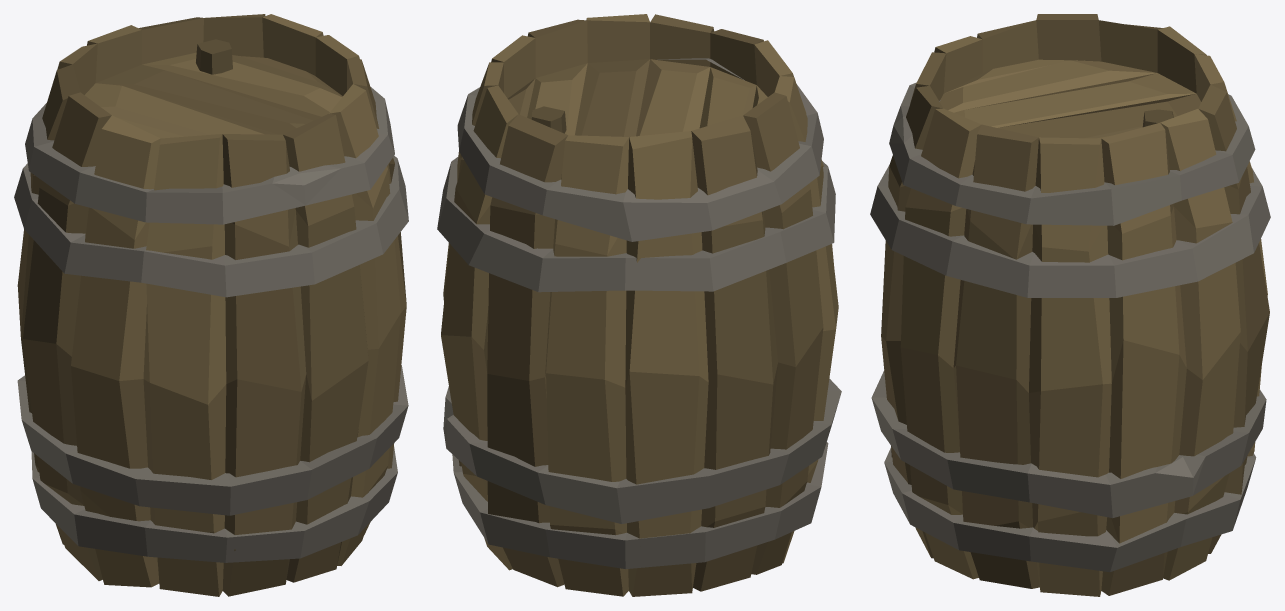
File: Barrel_1.fbx
3 renders of one model, left to right at view 1: azimuth 30°, elevation 25°; view 2: azimuth 150°, elevation 25°; view 3: azimuth 270°, elevation 25°, orthographic.
Parts seen in each view (by area): view 1: Barrel_1; view 2: Barrel_1; view 3: Barrel_1.
Boxes of the visible parts, x1,y1,x2,y2 form: Barrel_1: (14,14,408,596); Barrel_1: (437,14,841,596); Barrel_1: (870,14,1270,596).
Size of the model in its own units: 72.89 by 94.6 by 73.8.
